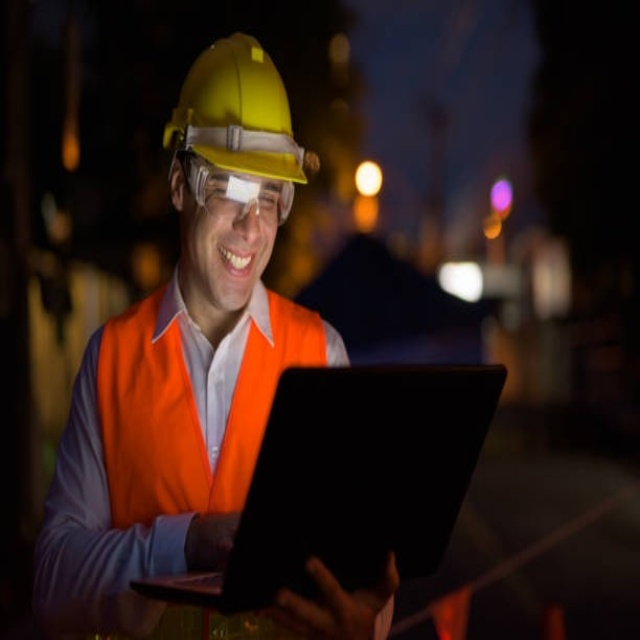Gafas: (180, 151, 296, 226)
Sin_guantes: (269, 544, 402, 635)
Sin_mascara: (209, 238, 254, 295)
